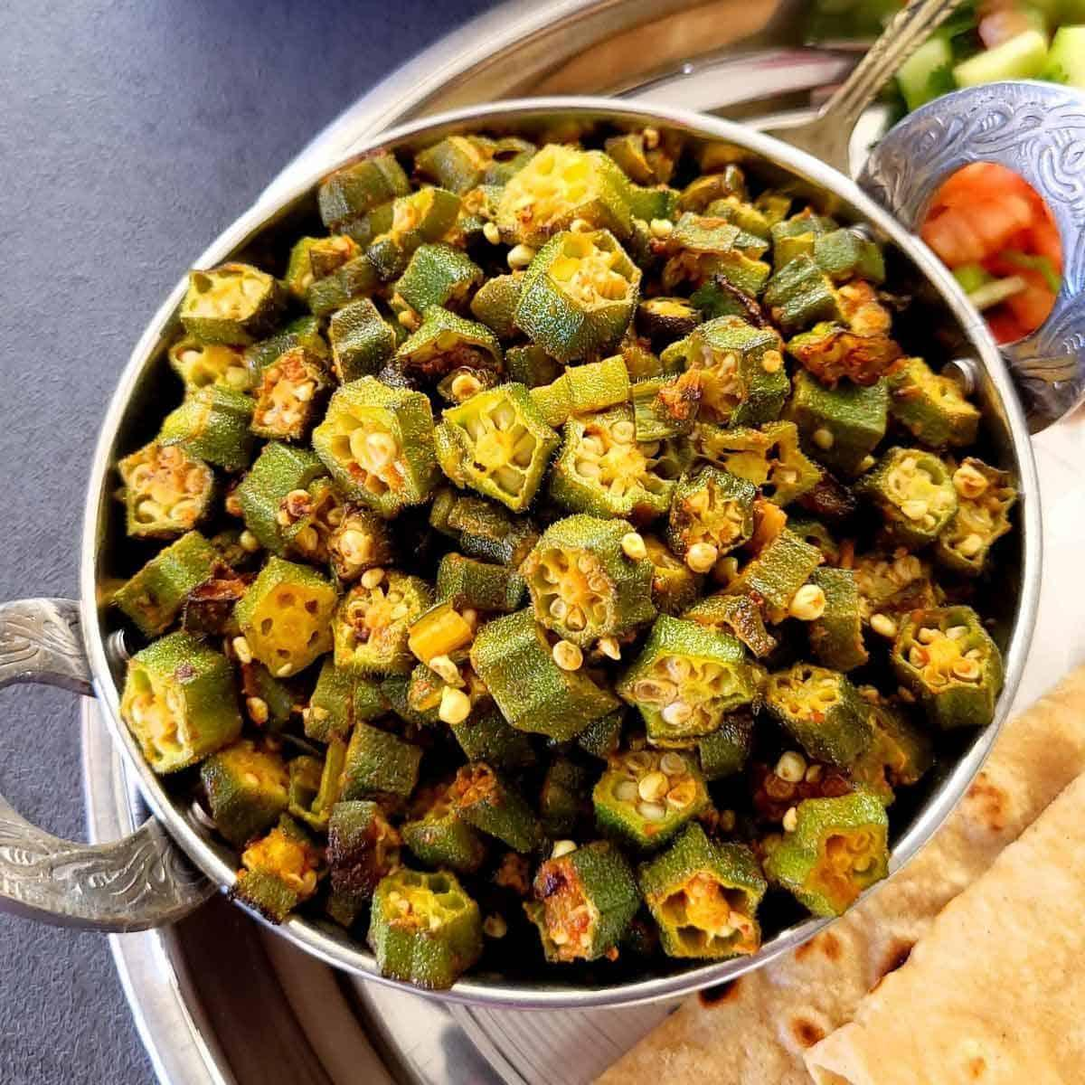bhindi: (202, 264, 921, 898)
